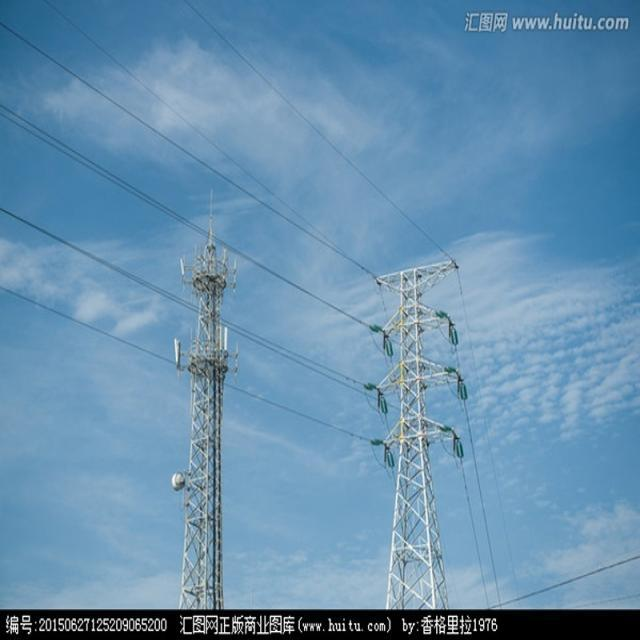non-critical vegetation: (364, 251, 474, 608), (162, 218, 250, 618)
